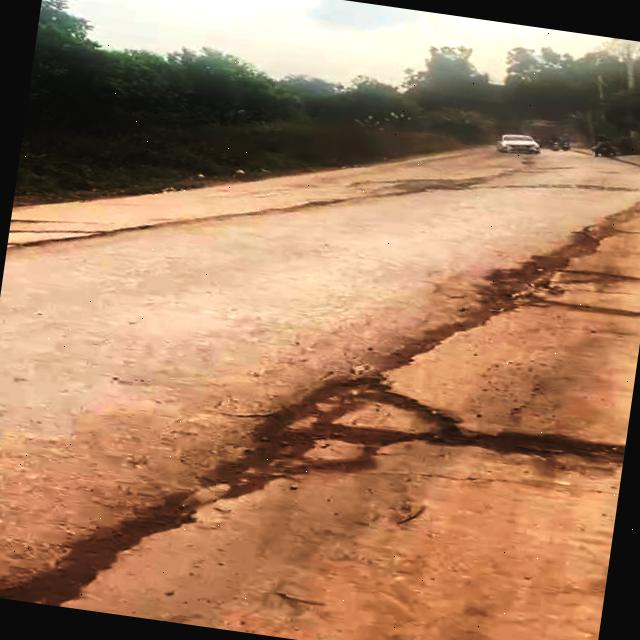pothole: (245, 363, 630, 508)
